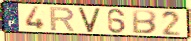2: (160, 10, 183, 37)
4: (24, 5, 47, 31)
6: (107, 8, 128, 35)
B: (131, 9, 158, 35)
R: (48, 6, 76, 32)
V: (77, 7, 102, 34)
